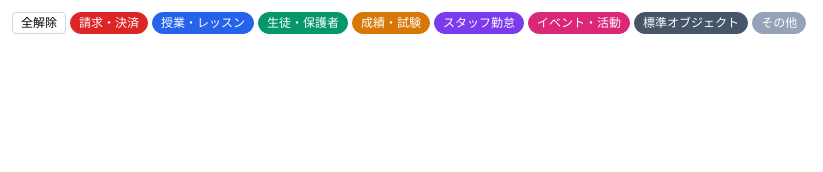
Test: DomainFilter › toggles all with 全解除/全選択 button
Click the button "全解除": (39, 23) [12,12,66,34]
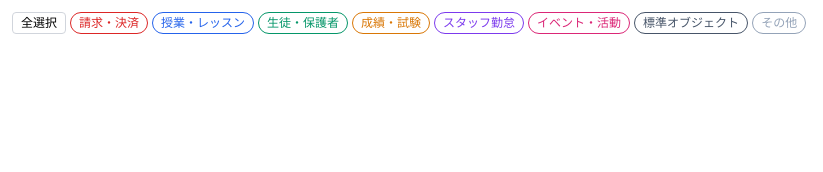
Expected: the button "全選択" is shown, [12,12,66,34]
